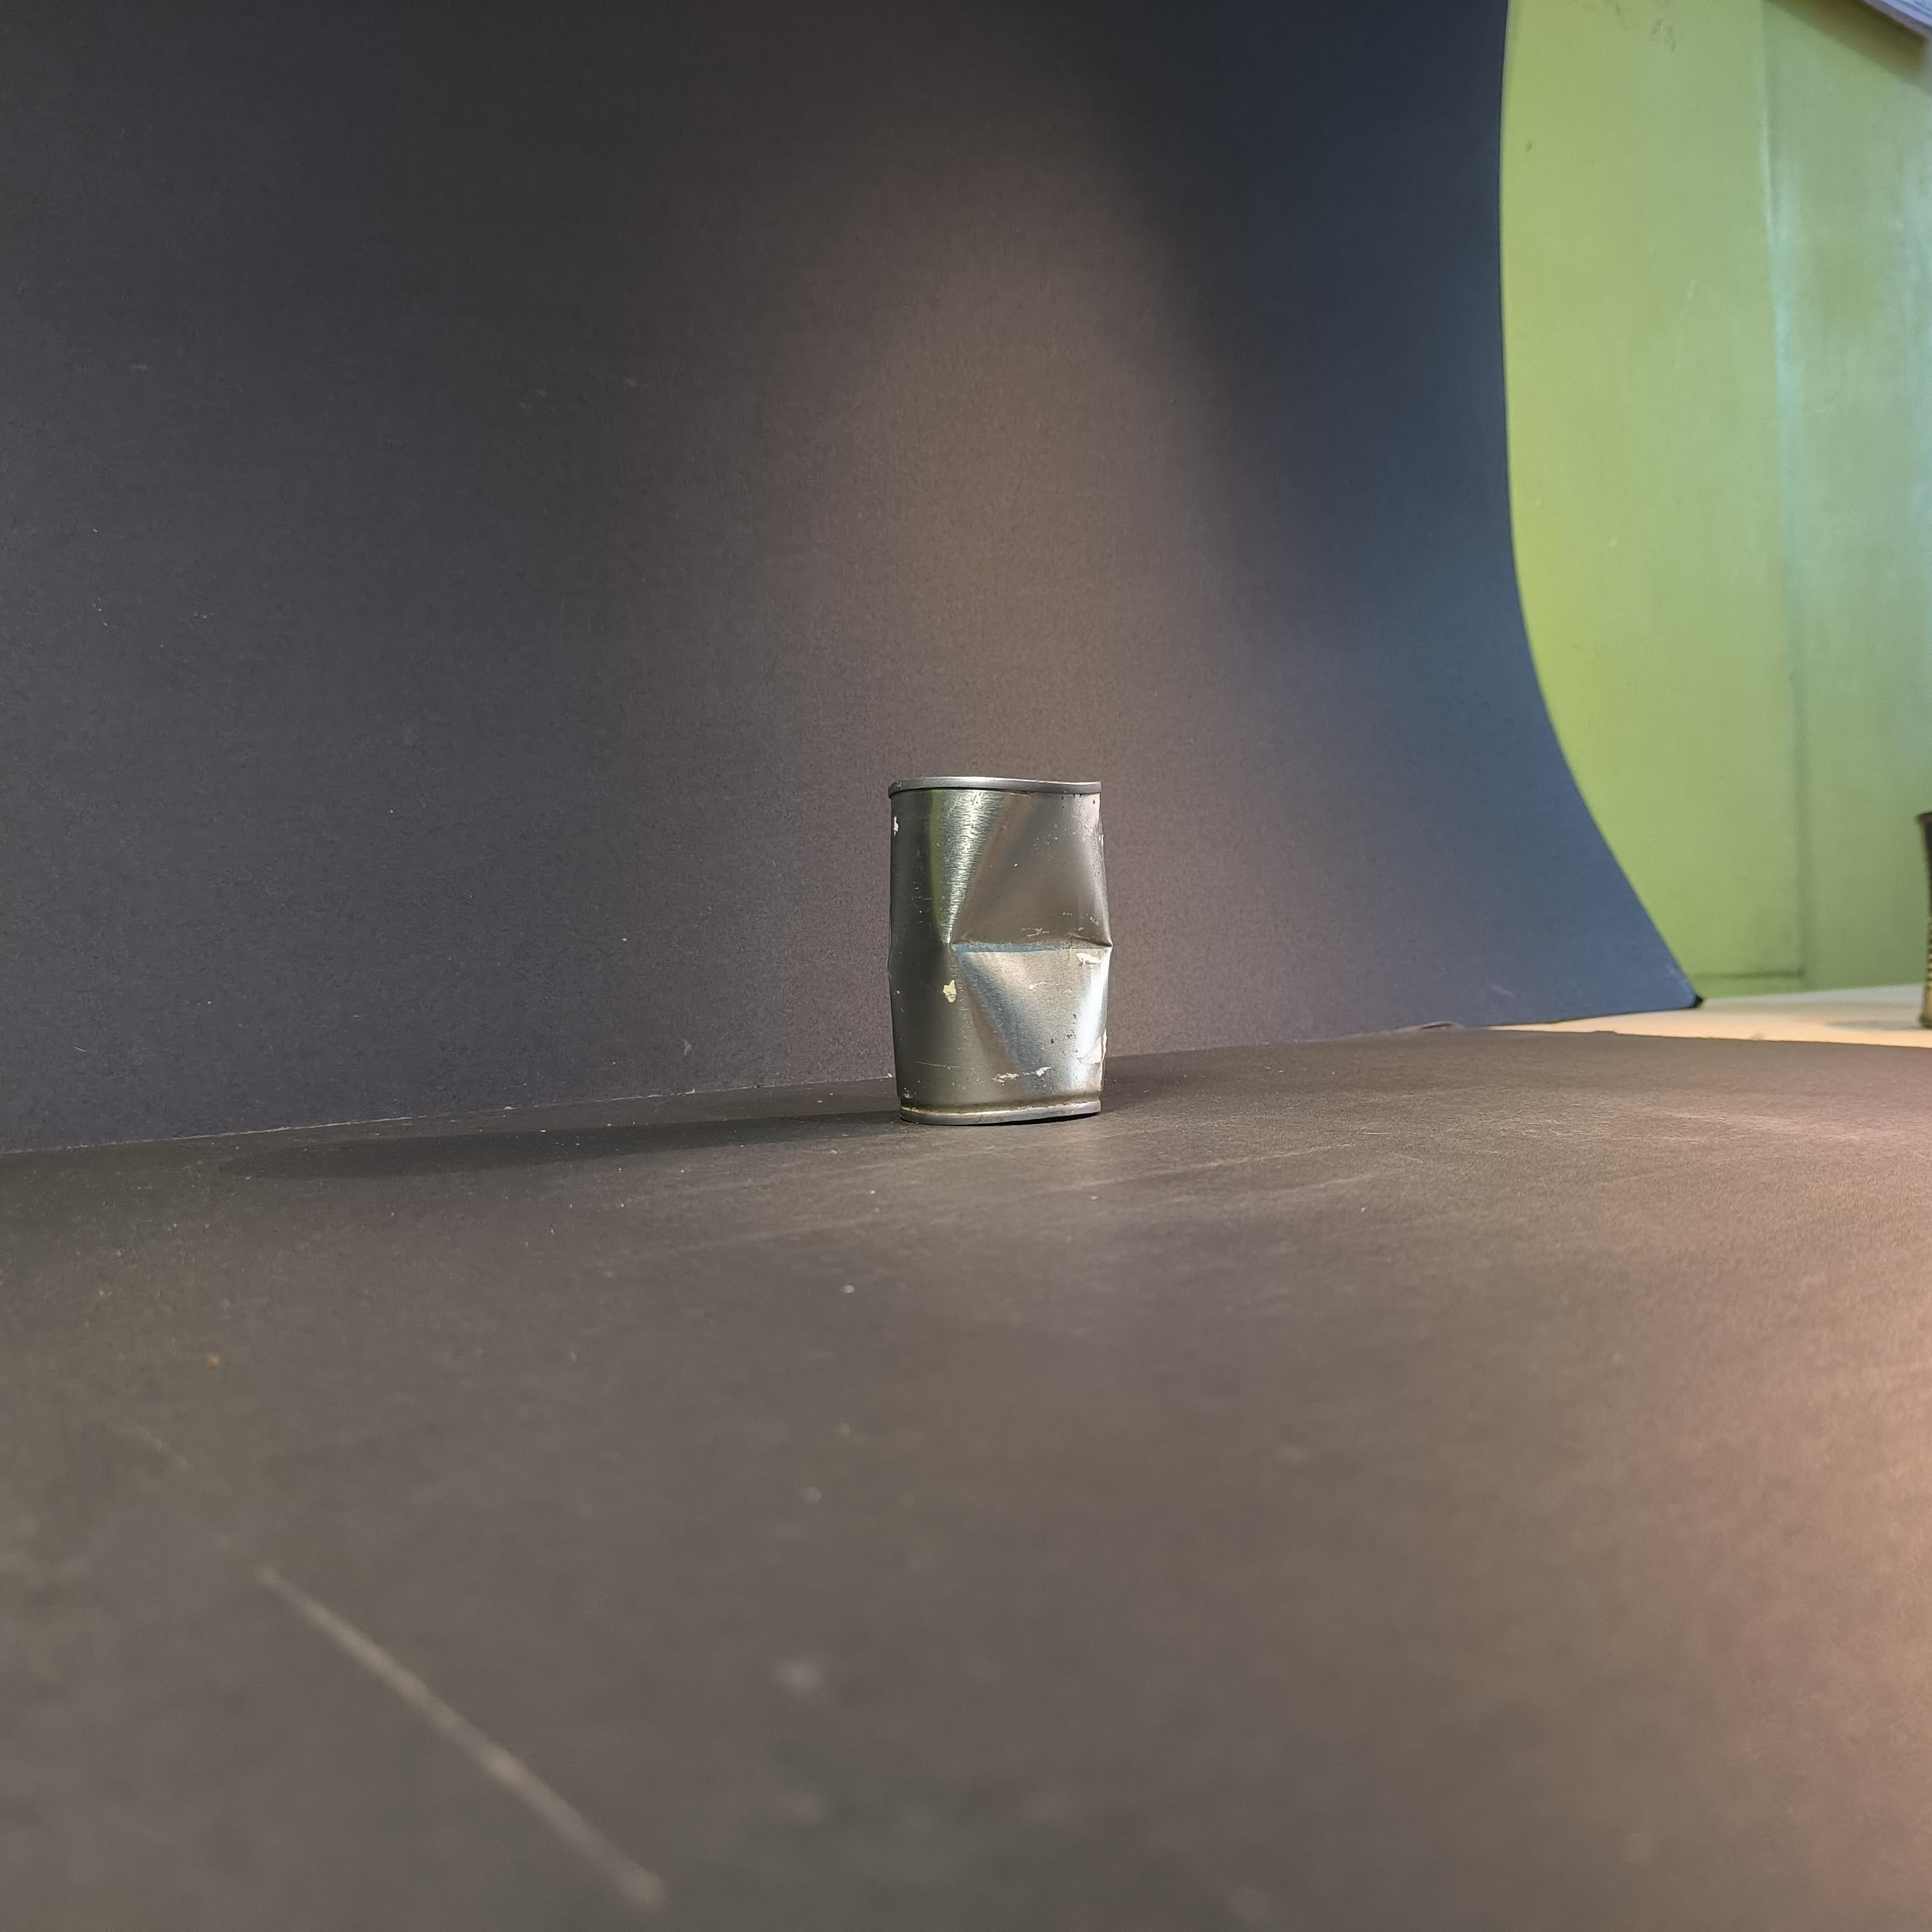Dented: (865, 738, 1138, 1161)
